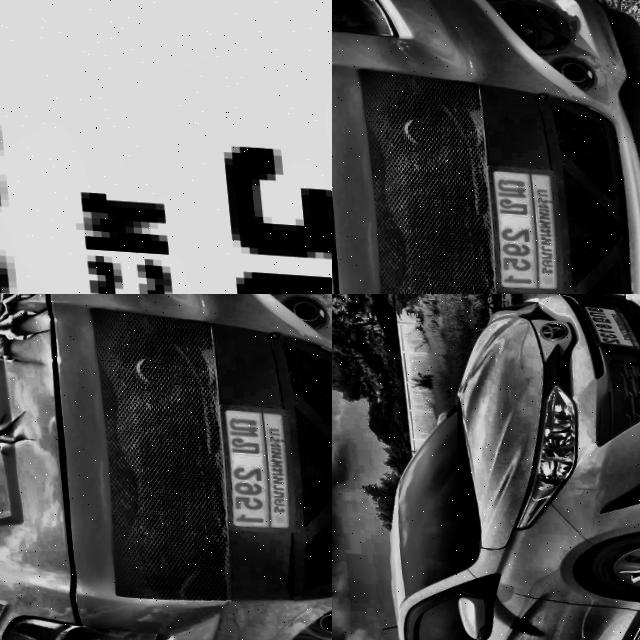license-plate: (0, 0, 332, 294), (473, 155, 559, 287), (205, 394, 291, 526), (575, 295, 640, 346)
